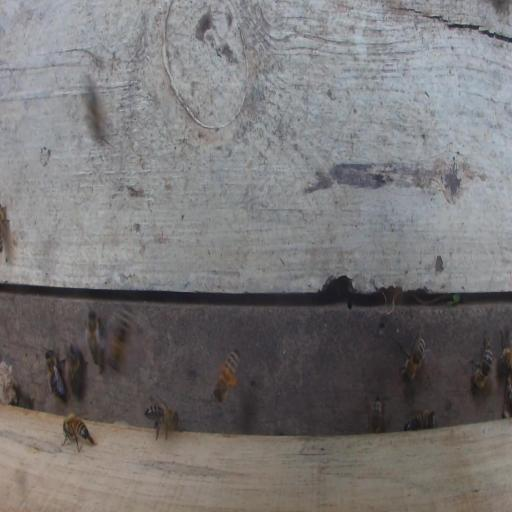bee: (211, 344, 243, 404), (107, 311, 133, 373), (61, 412, 97, 453), (144, 401, 180, 441), (468, 333, 492, 391), (399, 333, 426, 384), (45, 347, 66, 400), (66, 343, 85, 401), (87, 309, 103, 369), (403, 408, 437, 430), (499, 329, 512, 376), (371, 396, 382, 433)
